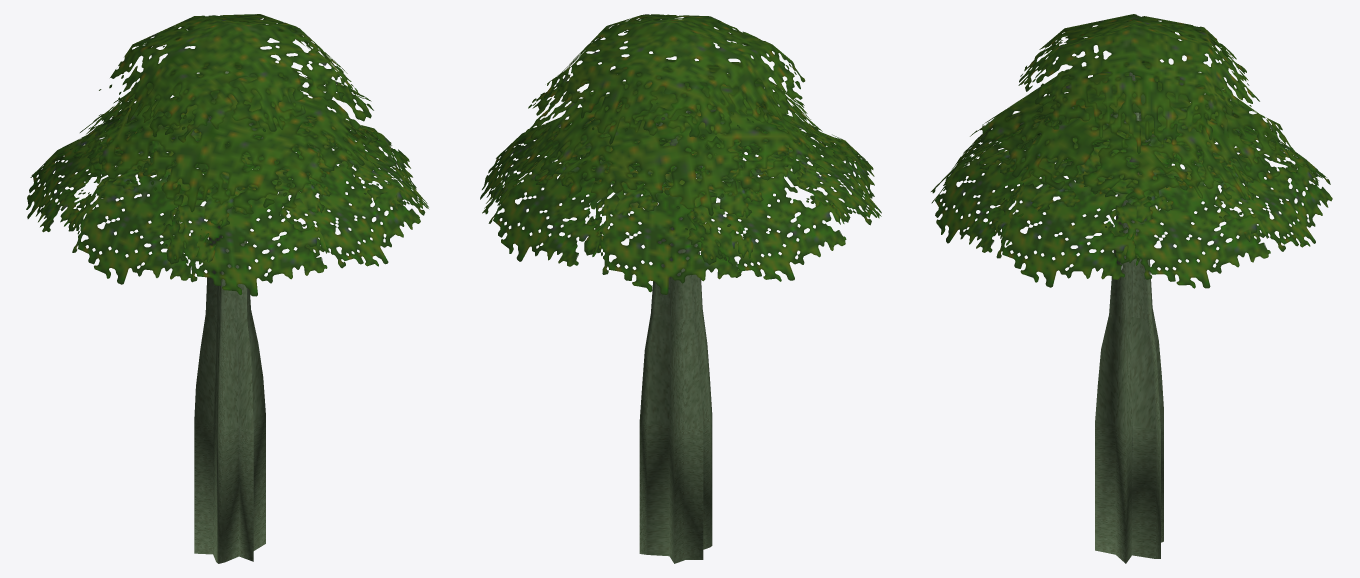
File: kapok_tree_3_1.dae
3 views of the same model, side by side, from view 1: azimuth 30°, elevation 25°; view 2: azimuth 150°, elevation 25°; view 3: azimuth 270°, elevation 25° (orthographic).
Visible parts, largest first — view 1: Plane.008; view 2: Plane.008; view 3: Plane.008.
Boxes of the visible parts, x1=… form: Plane.008: x1=26, y1=14, x2=428, y2=563; Plane.008: x1=480, y1=14, x2=881, y2=563; Plane.008: x1=931, y1=14, x2=1332, y2=563.
Size of the model in its own units: 0.7469 by 0.7495 by 1.01.
Materials: 1 (1 with a texture image).
